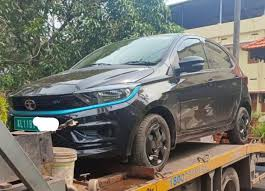Tiago: (4, 28, 253, 178)
